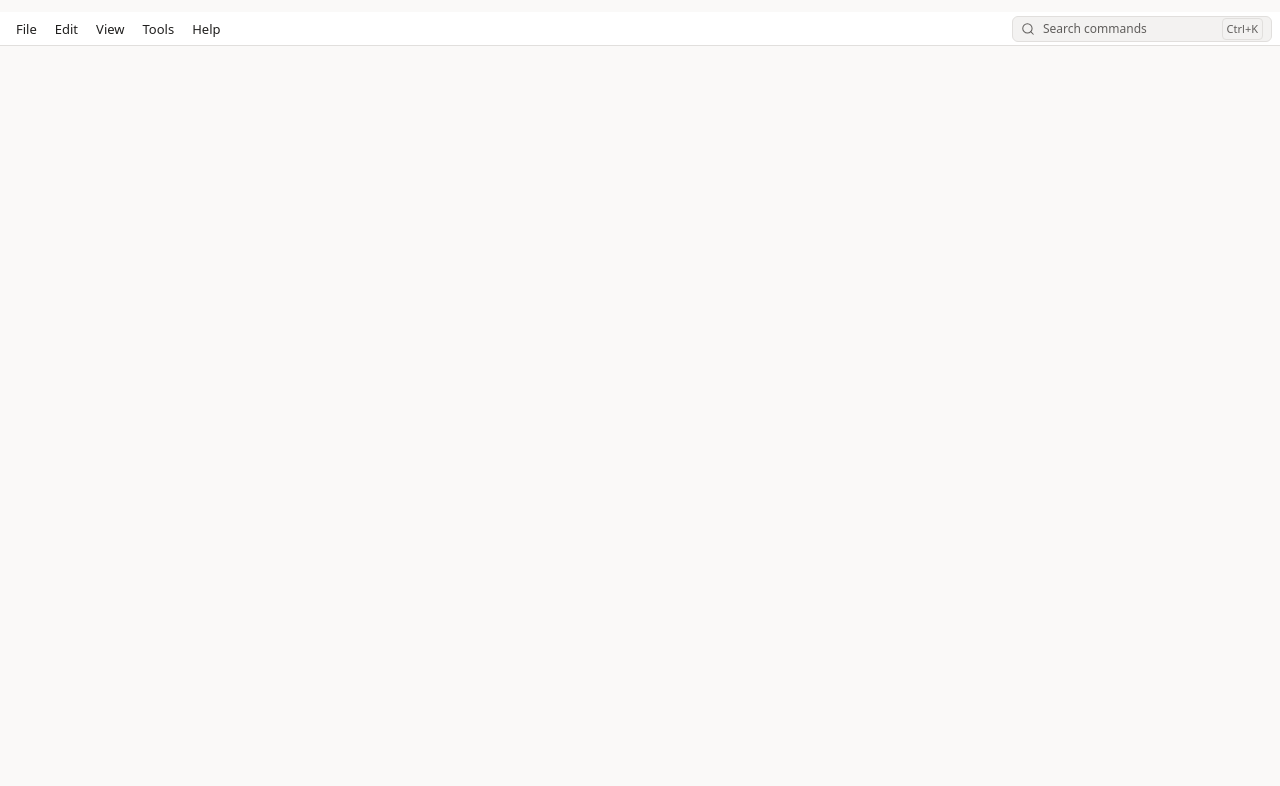
Test case: command bar › shows the keyboard chord next to a command
The width and height of the screenshot is (1280, 786).
Click the menu item "View": point(110, 28) [88, 16, 133, 42]
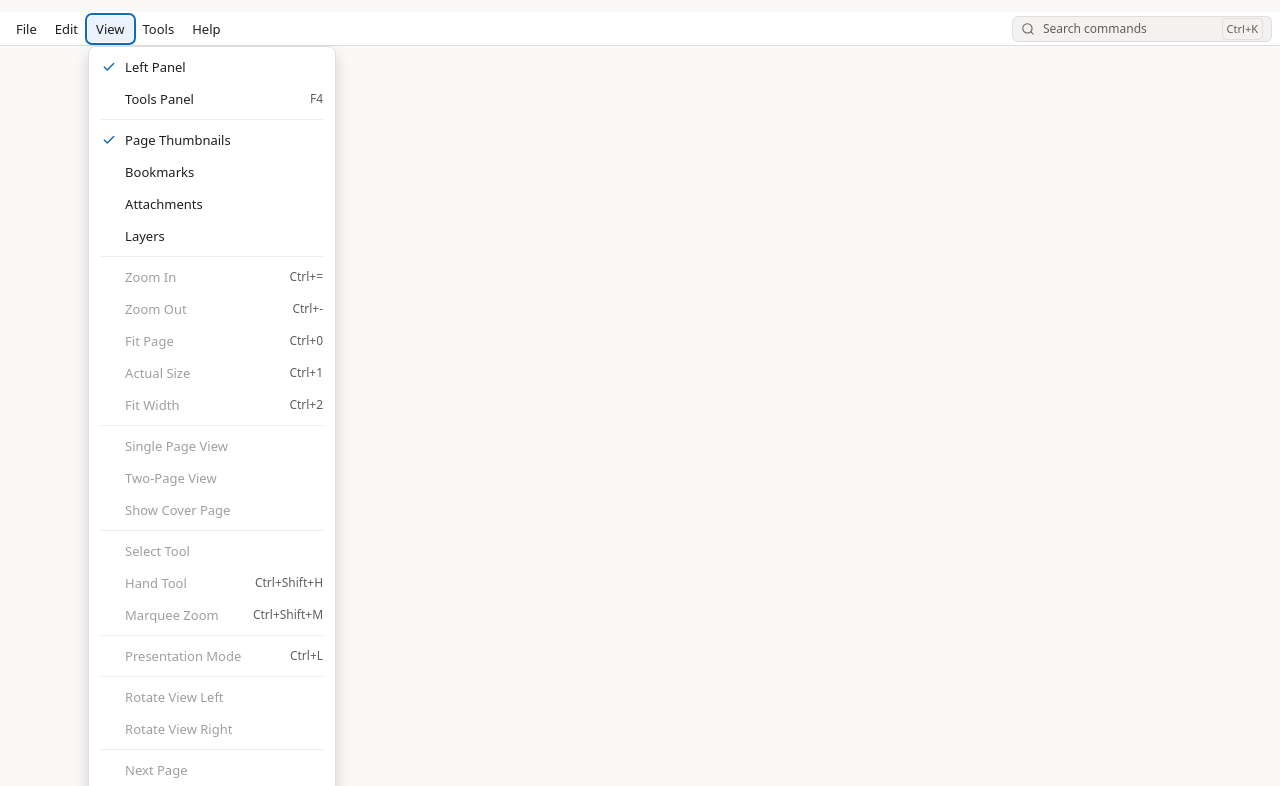
expect the menu item "Tools Panel F4" is shown: met, box [93, 82, 331, 114]
